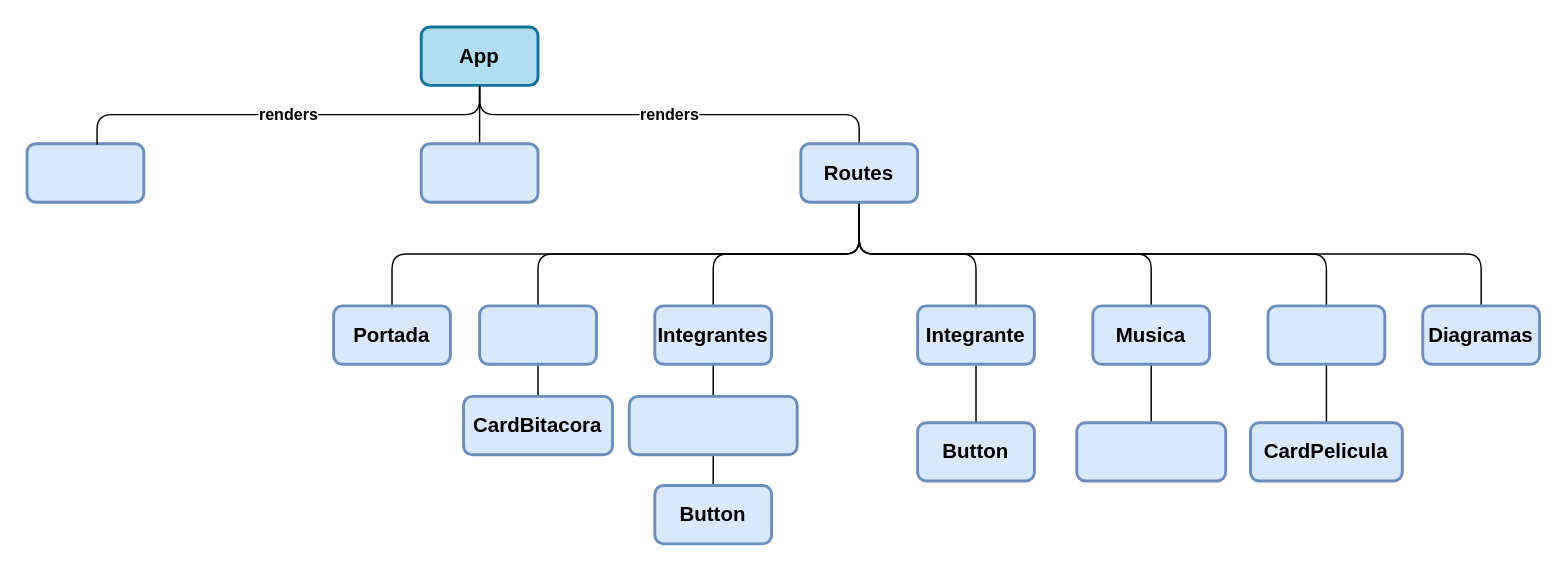
Image size: 1565x569. Some labels were removed from this diagram. The shapes that lost their labels are listed below. From the top down, each one's centre as x and y in pixels, then its label:
At [85,172]: "Sidebar".
At [479,172]: "Footer".
At [537,334]: "Bitacora".
At [1326,334]: "Peliculas".
At [712,425]: "CardIntegrante".
At [1150,451]: "CardMusica".
